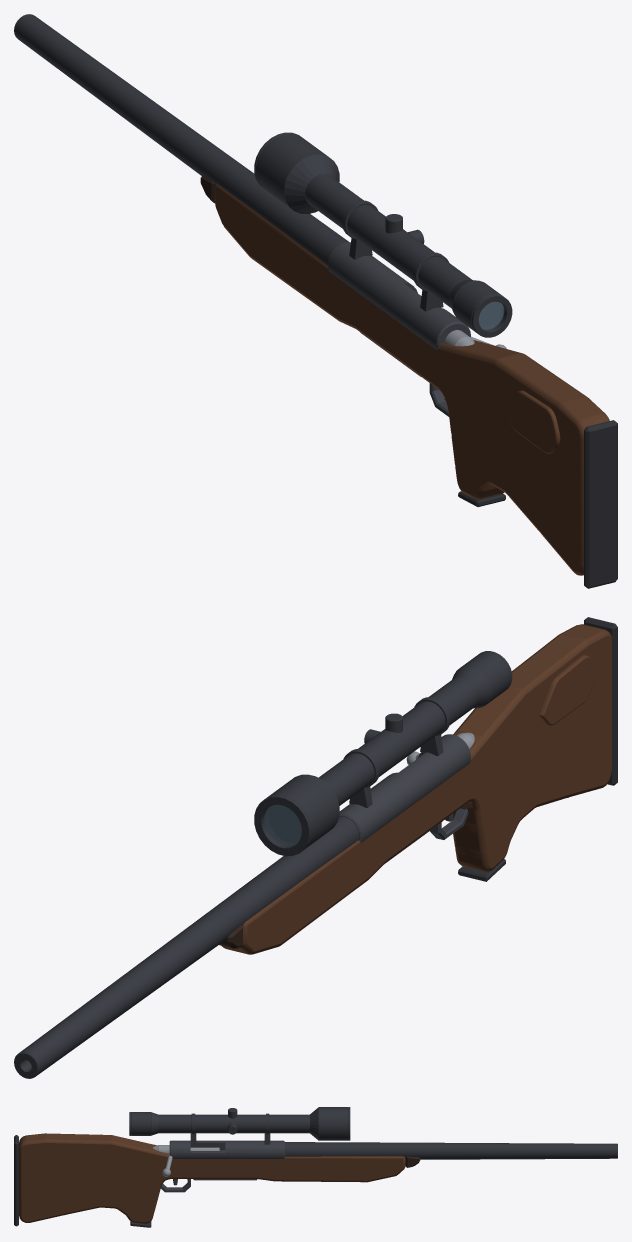
File: w_sniper@sniper_classic.glb
3 renders of one model, top to bottom at view 1: azimuth 30°, elevation 25°; view 2: azimuth 150°, elevation 25°; view 3: azimuth 270°, elevation 25°, orthographic. The views are drawn at different scales.
Visible parts, largest first — view 1: stock_wzA, scope_wzB, barrel_wzB, stock_wzB, body_wzB; view 2: stock_wzA, scope_wzB, barrel_wzB, body_wzB, stock_wzB, lens_wzN; view 3: stock_wzA, barrel_wzB, scope_wzB, body_wzB, stock_wzB, bolt_wzB, scope_wzN.
Boxes of the visible parts, x1=… form: stock_wzA: x1=215, y1=183, x2=609, y2=575; scope_wzB: x1=254, y1=132, x2=512, y2=337; barrel_wzB: x1=14, y1=14, x2=348, y2=265; stock_wzB: x1=458, y1=420, x2=617, y2=588; body_wzB: x1=327, y1=242, x2=470, y2=416; stock_wzA: x1=221, y1=624, x2=612, y2=954; scope_wzB: x1=254, y1=651, x2=512, y2=856; barrel_wzB: x1=14, y1=816, x2=359, y2=1078; body_wzB: x1=339, y1=734, x2=470, y2=863; stock_wzB: x1=458, y1=617, x2=617, y2=881; lens_wzN: x1=264, y1=805, x2=301, y2=846; stock_wzA: x1=19, y1=1133, x2=405, y2=1223; barrel_wzB: x1=285, y1=1142, x2=617, y2=1159; scope_wzB: x1=129, y1=1107, x2=350, y2=1144; body_wzB: x1=160, y1=1140, x2=284, y2=1192; stock_wzB: x1=14, y1=1135, x2=151, y2=1227; bolt_wzB: x1=153, y1=1145, x2=219, y2=1176; scope_wzN: x1=228, y1=1108, x2=237, y2=1134.
Bounding box in the file's own units: 0.1602 × 0.4387 × 2.08.
